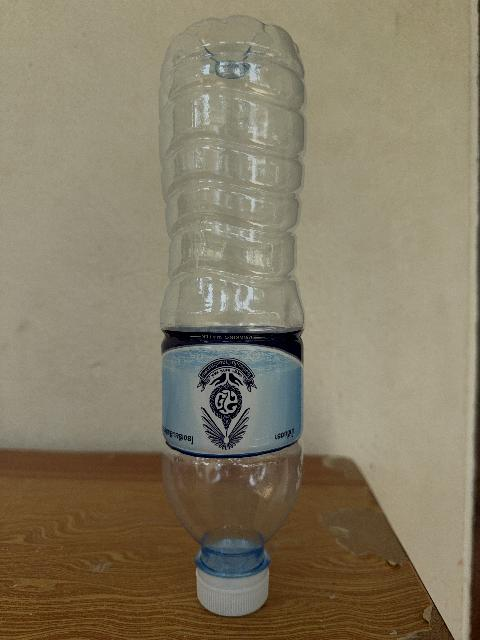bottle: (160, 17, 304, 615)
